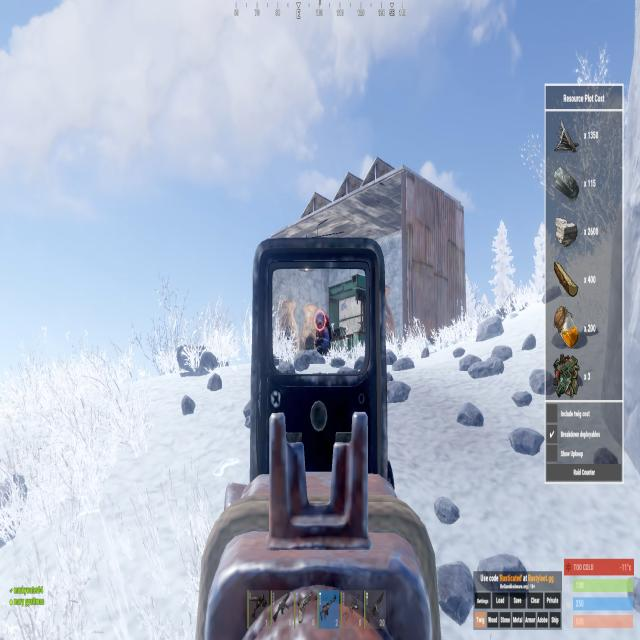Player: (315, 312, 332, 357)
